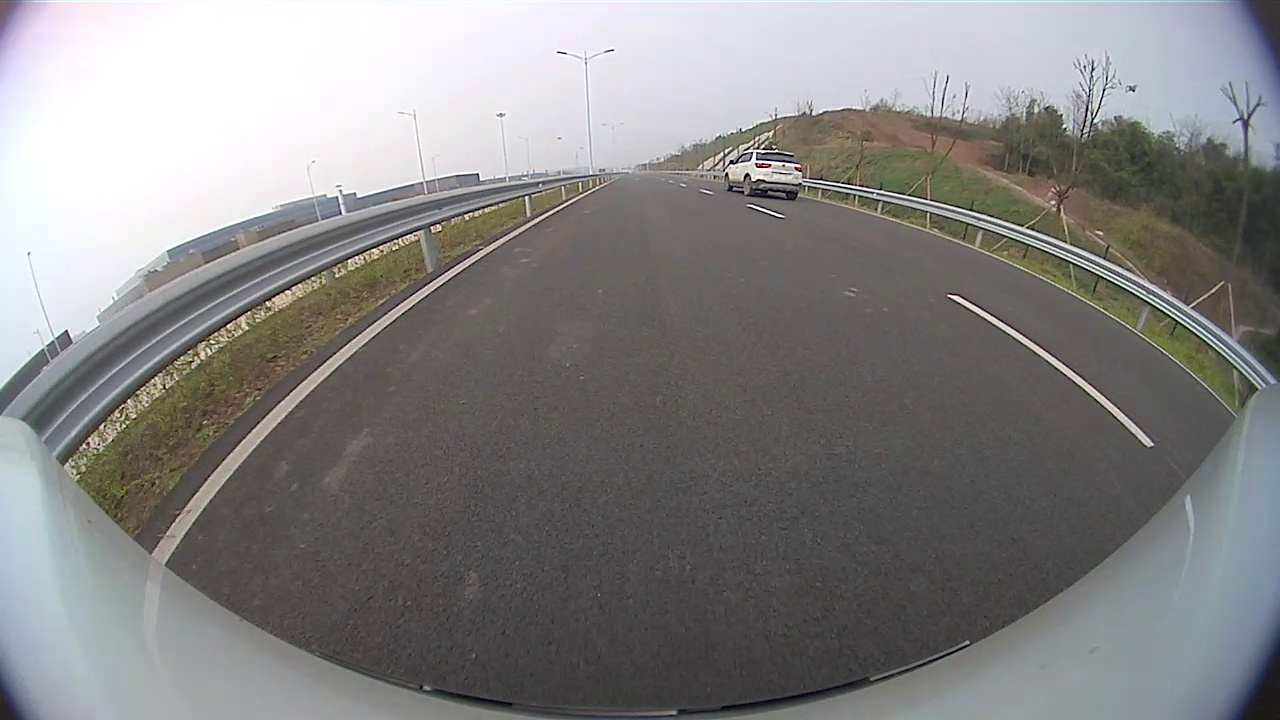car: (722, 149, 804, 200)
front: (722, 175, 732, 191)
rear: (742, 175, 753, 196)
